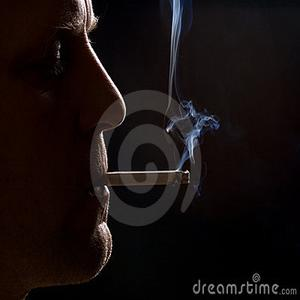cigarette: (98, 171, 192, 188)
